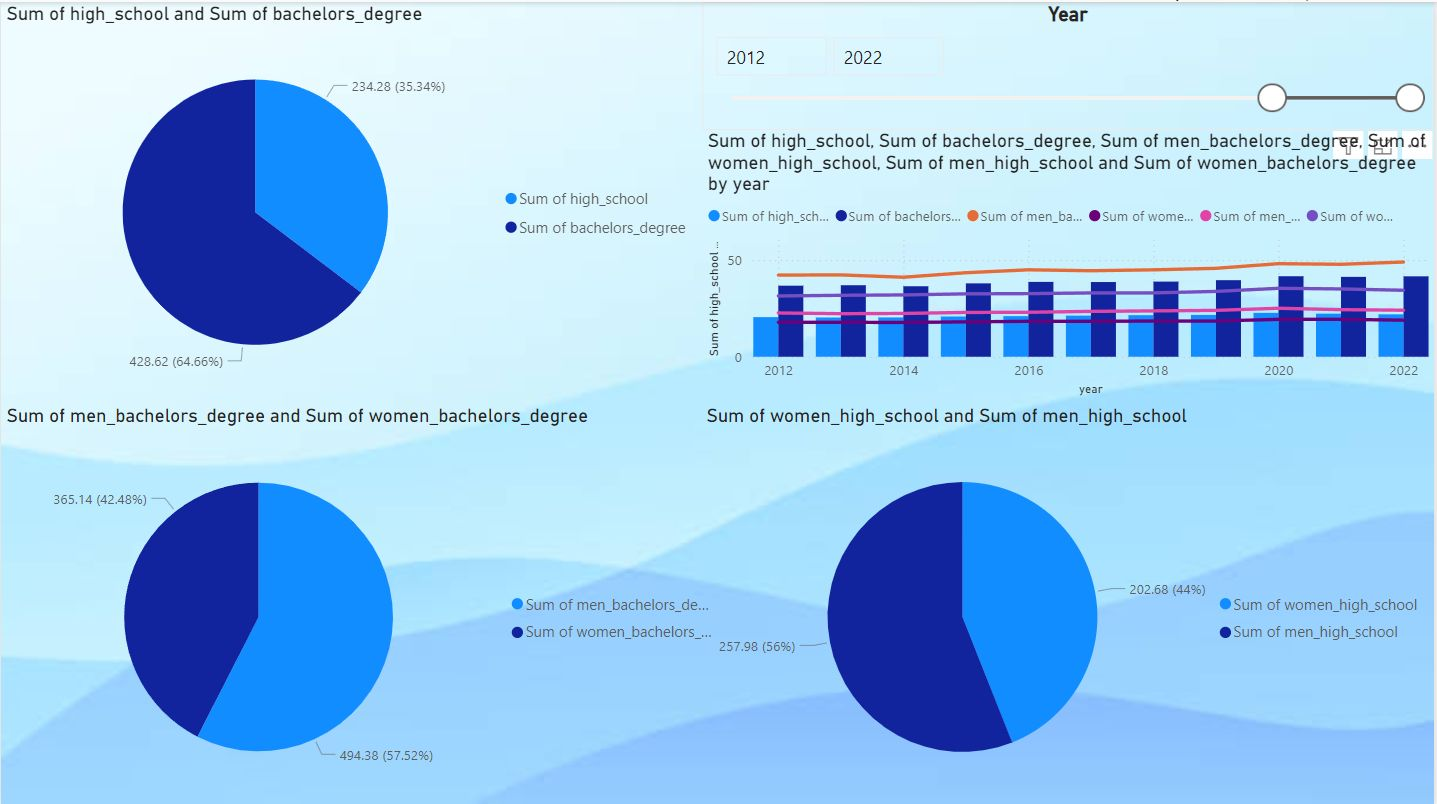

The dashboard page shown, as its layout file describes it:
{"tool":"powerbi","page":{"name":"Page 2","canvas":[1280,720],"ordinal":1},"visuals":[{"type":"pieChart","fields":{"Y":["Sum(college_wage_premium.men_bachelors_degree)","Sum(college_wage_premium.women_bachelors_degree)"]},"box":[0,359.5,654.5,360.9],"z":0},{"type":"pieChart","fields":{"Y":["Sum(college_wage_premium.women_high_school)","Sum(college_wage_premium.men_high_school)"]},"box":[625.7,359.5,654.5,360.9],"z":1000},{"type":"slicer","title":"Year","fields":{"Values":["college_wage_premium.year"]},"box":[626.4,0,653.2,113.9],"z":2000},{"type":"pieChart","fields":{"Y":["Sum(college_wage_premium.high_school)","Sum(college_wage_premium.bachelors_degree)"]},"box":[0,0,625.7,356.8],"z":3000},{"type":"lineClusteredColumnComboChart","fields":{"Category":["college_wage_premium.year"],"Y":["Sum(college_wage_premium.high_school)","Sum(college_wage_premium.bachelors_degree)"],"Y2":["Sum(college_wage_premium.men_bachelors_degree)","Sum(college_wage_premium.women_high_school)","Sum(college_wage_premium.men_high_school)","Sum(college_wage_premium.women_bachelors_degree)"]},"box":[626,114,654,243],"z":4000}]}

Visuals, with their boxes in screenshot pixels (x1, y1, x2, y2), scaled from the page's 1280x720 canvas onto the 1437x804 screenshot:
pieChart - Sum(college_wage_premium.men_bachelors_degree) x Sum(college_wage_premium.women_bachelors_degree): [0,401,735,803]
pieChart - Sum(college_wage_premium.women_high_school) x Sum(college_wage_premium.men_high_school): [702,401,1436,803]
"Year" slicer: [703,0,1436,127]
pieChart - Sum(college_wage_premium.high_school) x Sum(college_wage_premium.bachelors_degree): [0,0,702,398]
lineClusteredColumnComboChart - college_wage_premium.year x Sum(college_wage_premium.high_school): [703,127,1436,399]
